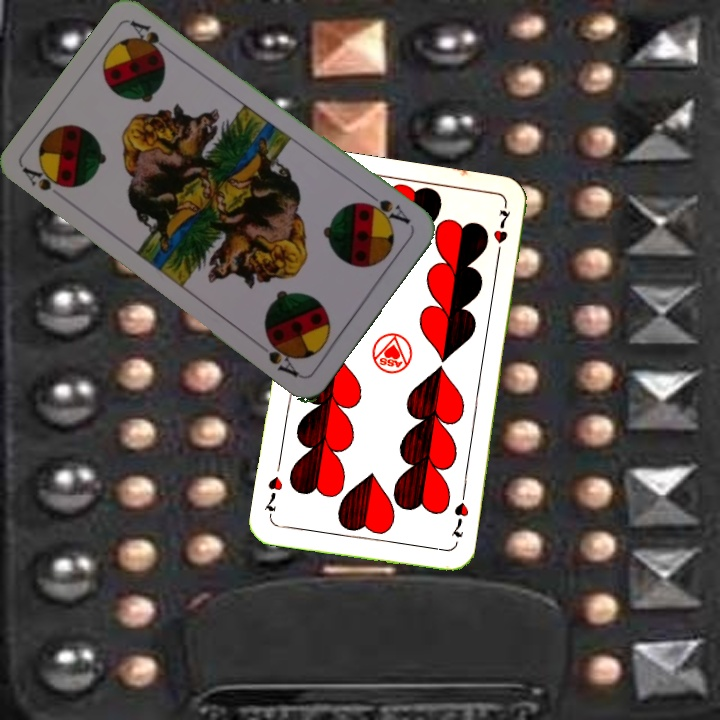H7: (447, 498, 472, 540)
SA: (358, 188, 413, 228), (19, 163, 69, 194)
